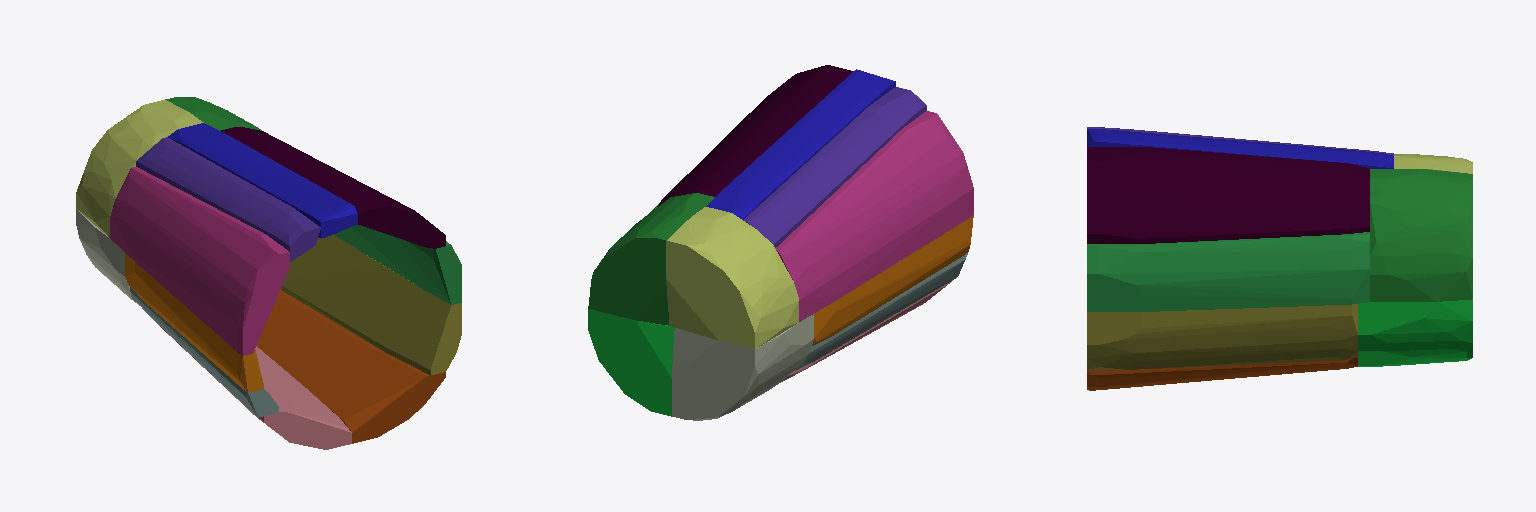
File: cup.obj
The picture shows the model from 3 angles: view 1: azimuth 30°, elevation 25°; view 2: azimuth 150°, elevation 25°; view 3: azimuth 270°, elevation 25°; orthographic projection.
Parts seen in each view (by area): view 1: ShapeIndexedFaceSet.007_ShapeIndexedFaceSet.022, ShapeIndexedFaceSet.006_ShapeIndexedFaceSet.021, ShapeIndexedFaceSet.005_ShapeIndexedFaceSet.020, ShapeIndexedFaceSet.012_ShapeIndexedFaceSet.027, ShapeIndexedFaceSet.013_ShapeIndexedFaceSet, ShapeIndexedFaceSet.002_ShapeIndexedFaceSet.017, ShapeIndexedFaceSet.009_ShapeIndexedFaceSet.024, ShapeIndexedFaceSet.004_ShapeIndexedFaceSet.019, ShapeIndexedFaceSet.008_ShapeIndexedFaceSet.023, ShapeIndexedFaceSet.011_ShapeIndexedFaceSet.026, ShapeIndexedFaceSet.010_ShapeIndexedFaceSet.025, ShapeIndexedFaceSet_ShapeIndexedFaceSet.015 (+1 smaller); view 2: ShapeIndexedFaceSet.007_ShapeIndexedFaceSet.022, ShapeIndexedFaceSet.002_ShapeIndexedFaceSet.017, ShapeIndexedFaceSet_ShapeIndexedFaceSet.015, ShapeIndexedFaceSet.012_ShapeIndexedFaceSet.027, ShapeIndexedFaceSet.003_ShapeIndexedFaceSet.018, ShapeIndexedFaceSet.013_ShapeIndexedFaceSet, ShapeIndexedFaceSet.009_ShapeIndexedFaceSet.024, ShapeIndexedFaceSet.001_ShapeIndexedFaceSet.016, ShapeIndexedFaceSet.011_ShapeIndexedFaceSet.026, ShapeIndexedFaceSet.010_ShapeIndexedFaceSet.025, ShapeIndexedFaceSet.004_ShapeIndexedFaceSet.019; view 3: ShapeIndexedFaceSet.009_ShapeIndexedFaceSet.024, ShapeIndexedFaceSet.008_ShapeIndexedFaceSet.023, ShapeIndexedFaceSet.006_ShapeIndexedFaceSet.021, ShapeIndexedFaceSet.003_ShapeIndexedFaceSet.018, ShapeIndexedFaceSet.001_ShapeIndexedFaceSet.016, ShapeIndexedFaceSet.013_ShapeIndexedFaceSet, ShapeIndexedFaceSet.005_ShapeIndexedFaceSet.020, ShapeIndexedFaceSet.002_ShapeIndexedFaceSet.017, ShapeIndexedFaceSet.012_ShapeIndexedFaceSet.027.
Boxes of the visible parts, x1,y1,x2,y2 form: ShapeIndexedFaceSet.007_ShapeIndexedFaceSet.022: [110, 167, 289, 355]; ShapeIndexedFaceSet.006_ShapeIndexedFaceSet.021: [281, 235, 461, 375]; ShapeIndexedFaceSet.005_ShapeIndexedFaceSet.020: [257, 290, 445, 443]; ShapeIndexedFaceSet.012_ShapeIndexedFaceSet.027: [136, 137, 320, 261]; ShapeIndexedFaceSet.013_ShapeIndexedFaceSet: [168, 123, 357, 238]; ShapeIndexedFaceSet.002_ShapeIndexedFaceSet.017: [76, 100, 203, 237]; ShapeIndexedFaceSet.009_ShapeIndexedFaceSet.024: [221, 127, 445, 248]; ShapeIndexedFaceSet.004_ShapeIndexedFaceSet.019: [160, 326, 351, 449]; ShapeIndexedFaceSet.008_ShapeIndexedFaceSet.023: [333, 224, 461, 304]; ShapeIndexedFaceSet.011_ShapeIndexedFaceSet.026: [125, 253, 263, 392]; ShapeIndexedFaceSet.010_ShapeIndexedFaceSet.025: [130, 287, 278, 417]; ShapeIndexedFaceSet_ShapeIndexedFaceSet.015: [76, 209, 139, 305]; ShapeIndexedFaceSet.007_ShapeIndexedFaceSet.022: [775, 111, 973, 321]; ShapeIndexedFaceSet.002_ShapeIndexedFaceSet.017: [666, 207, 798, 348]; ShapeIndexedFaceSet_ShapeIndexedFaceSet.015: [672, 314, 813, 420]; ShapeIndexedFaceSet.012_ShapeIndexedFaceSet.027: [743, 87, 926, 247]; ShapeIndexedFaceSet.003_ShapeIndexedFaceSet.018: [588, 193, 714, 325]; ShapeIndexedFaceSet.013_ShapeIndexedFaceSet: [706, 69, 895, 219]; ShapeIndexedFaceSet.009_ShapeIndexedFaceSet.024: [657, 65, 852, 206]; ShapeIndexedFaceSet.001_ShapeIndexedFaceSet.016: [588, 309, 674, 416]; ShapeIndexedFaceSet.011_ShapeIndexedFaceSet.026: [812, 215, 973, 345]; ShapeIndexedFaceSet.010_ShapeIndexedFaceSet.025: [795, 253, 967, 370]; ShapeIndexedFaceSet.004_ShapeIndexedFaceSet.019: [780, 280, 952, 382]; ShapeIndexedFaceSet.009_ShapeIndexedFaceSet.024: [1087, 147, 1369, 243]; ShapeIndexedFaceSet.008_ShapeIndexedFaceSet.023: [1087, 232, 1369, 311]; ShapeIndexedFaceSet.006_ShapeIndexedFaceSet.021: [1087, 304, 1357, 369]; ShapeIndexedFaceSet.003_ShapeIndexedFaceSet.018: [1370, 169, 1472, 301]; ShapeIndexedFaceSet.001_ShapeIndexedFaceSet.016: [1358, 299, 1472, 366]; ShapeIndexedFaceSet.013_ShapeIndexedFaceSet: [1087, 129, 1393, 168]; ShapeIndexedFaceSet.005_ShapeIndexedFaceSet.020: [1087, 357, 1357, 390]; ShapeIndexedFaceSet.002_ShapeIndexedFaceSet.017: [1394, 154, 1472, 173]; ShapeIndexedFaceSet.012_ShapeIndexedFaceSet.027: [1087, 127, 1393, 155].
Size of the model in its own units: 0.0922 by 0.0944 by 0.1405.